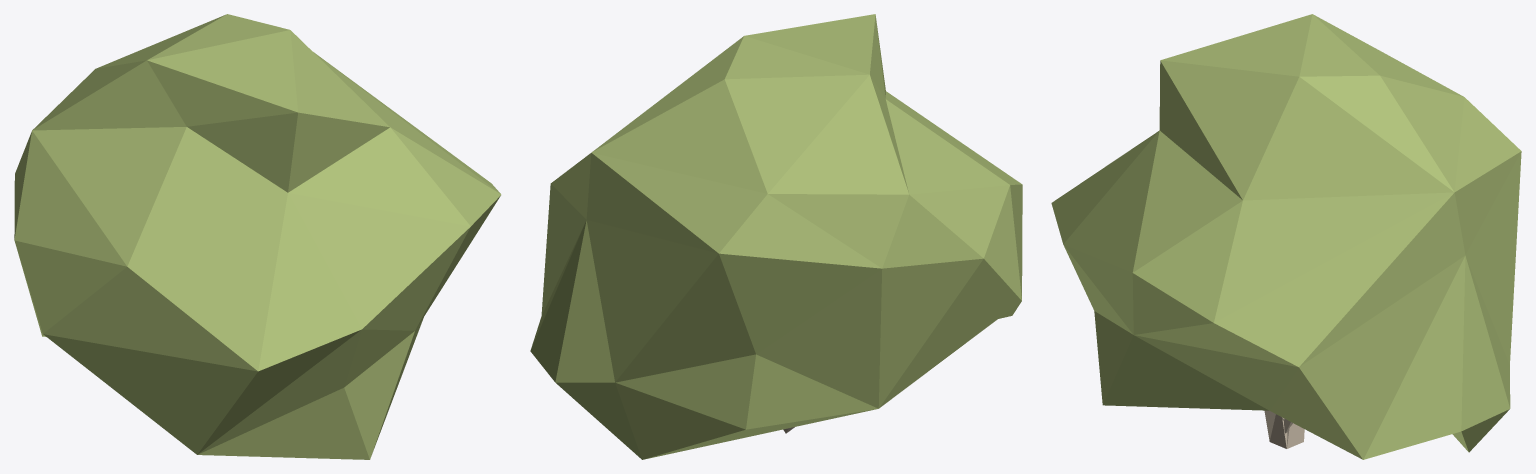
The model's file is JuglansRegia.glb.
3 renders of one model, left to right at view 1: azimuth 30°, elevation 25°; view 2: azimuth 150°, elevation 25°; view 3: azimuth 270°, elevation 25°, orthographic. The views are drawn at different scales.
Parts seen in each view (by area): view 1: Crown; view 2: Crown; view 3: Crown, Trunk.
Part boxes in pixels (x1,y1,x2,y2): Crown: (14, 14, 501, 459); Crown: (530, 14, 1022, 459); Crown: (1051, 14, 1521, 459); Trunk: (1264, 410, 1304, 448).
Bounding box in the file's own units: 12.18 × 9.93 × 10.94.
